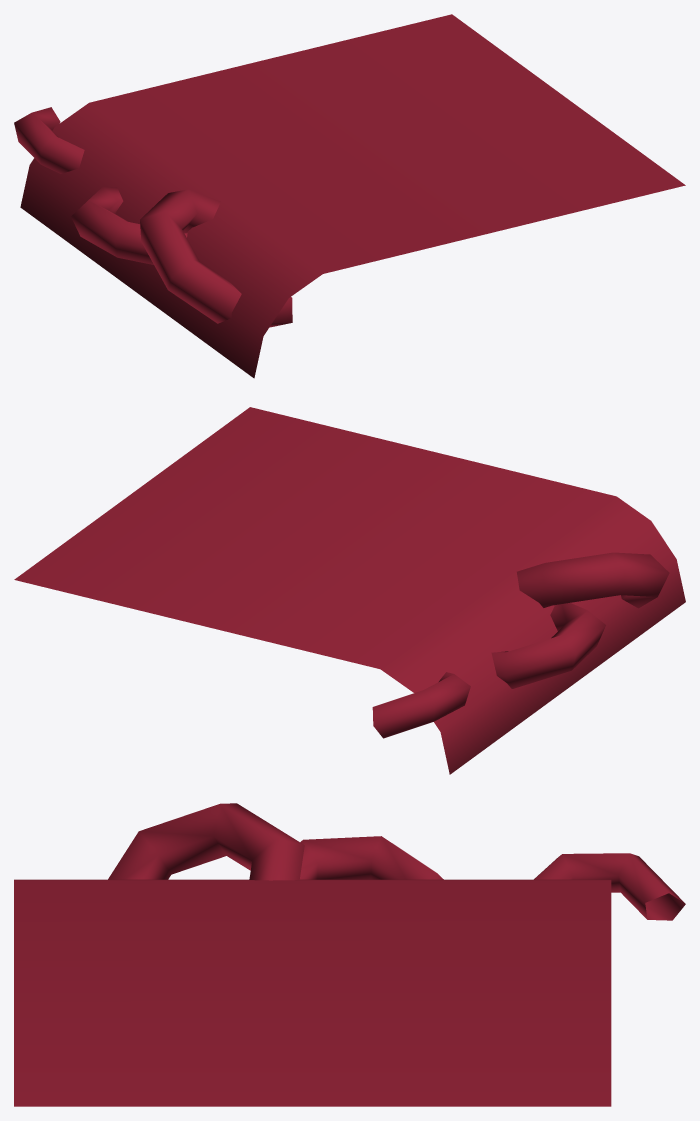
Rendered from Surface_RoadUp00.fbx.
3 renders of one model, top to bottom at view 1: azimuth 30°, elevation 25°; view 2: azimuth 150°, elevation 25°; view 3: azimuth 270°, elevation 25°, orthographic. The views are drawn at different scales.
Parts seen in each view (by area): view 1: Surface_RoadUp00; view 2: Surface_RoadUp00; view 3: Surface_RoadUp00.
Boxes of the visible parts, box(x1,y1,x2,y2) form: Surface_RoadUp00: box(14, 14, 685, 378); Surface_RoadUp00: box(14, 407, 685, 774); Surface_RoadUp00: box(14, 803, 685, 1106).
Size of the model in its own units: 2315 by 525 by 2250.
